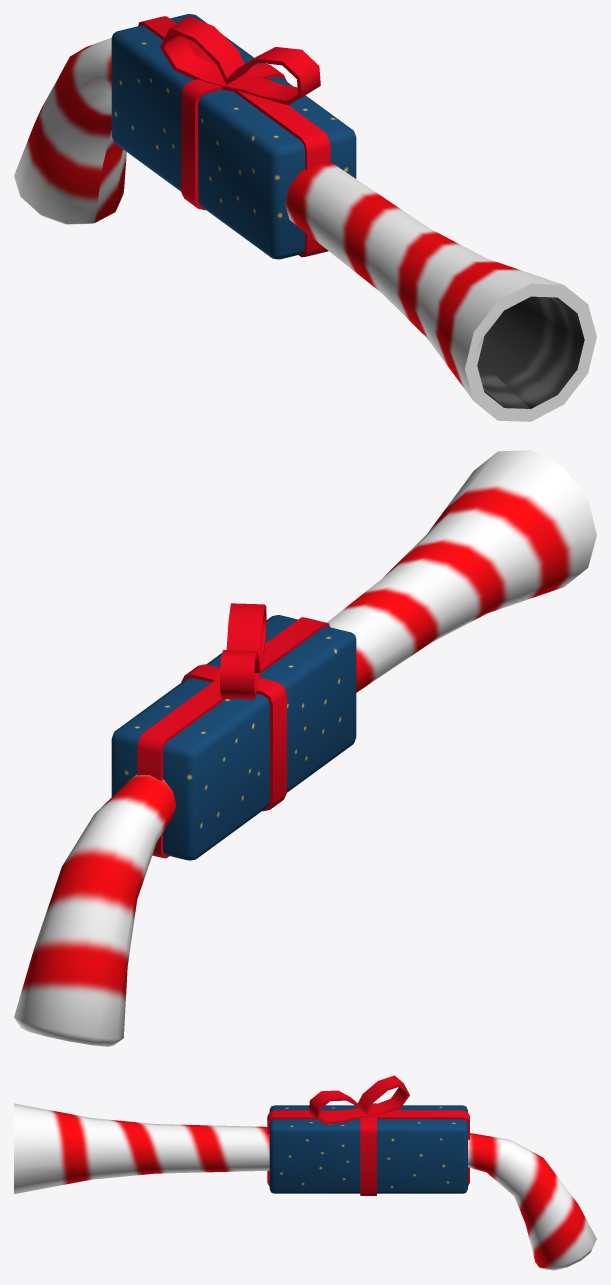
The model's file is shotgun.fbx.
3 views of the same model, one above another, from view 1: azimuth 30°, elevation 25°; view 2: azimuth 150°, elevation 25°; view 3: azimuth 270°, elevation 25° (orthographic). The views are drawn at different scales.
Parts seen in each view (by area): view 1: shotgun; view 2: shotgun; view 3: shotgun.
Part boxes in pixels (box(x1,y1,x2,y2)): shotgun: box(14, 14, 596, 421); shotgun: box(14, 450, 596, 1046); shotgun: box(14, 1075, 596, 1270).
Bounding box in the file's own units: 18.29 × 39.25 × 117.
